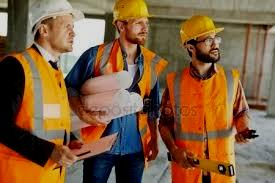helmet: (27, 0, 86, 51), (177, 15, 226, 62), (112, 0, 155, 44)
reflective: (70, 39, 166, 149), (163, 62, 250, 182), (0, 44, 72, 183)
